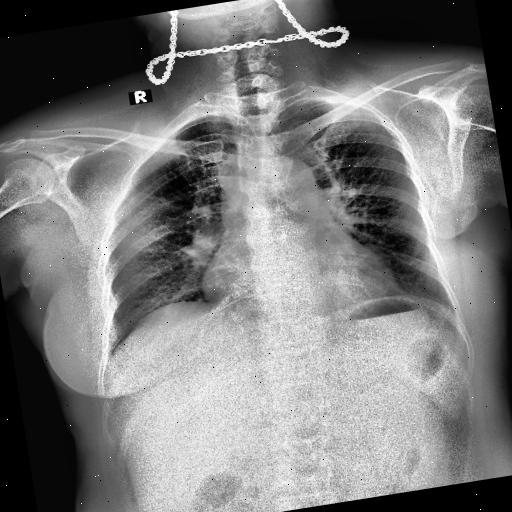0- Aortic enlargement: (266, 151, 324, 235), (266, 151, 322, 222), (268, 156, 318, 201)
3- Cardiomegaly: (196, 230, 402, 330), (198, 226, 402, 324), (197, 240, 400, 324)
5- ILD: (98, 184, 224, 348)
6- Infiltration: (98, 184, 224, 348)
